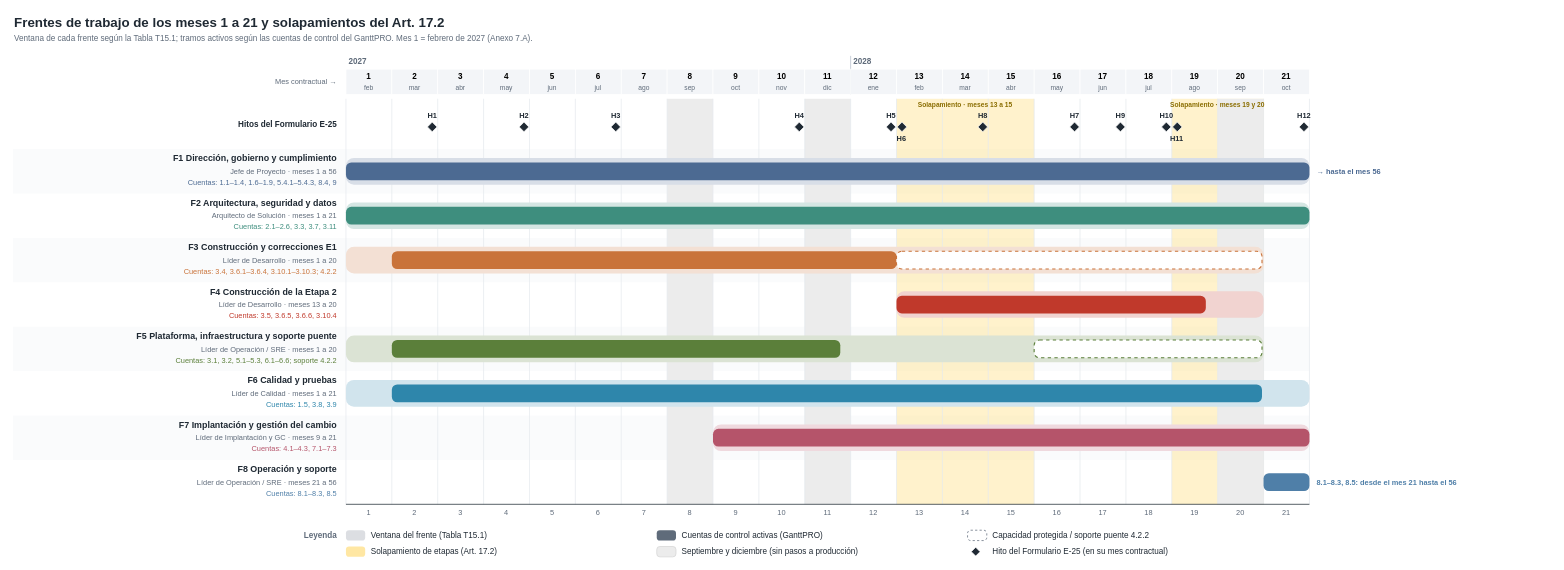
The diagram is 1564 pixels wide and 570 high, and some of its shapes have lost their labels. Here are the shapes that lost their labels. From the top down, the centre of each, then its label:
At [1079,259]: "4.2.2 capacidad protegida".
At [1147,348]: "4.2.2 soporte puente".
